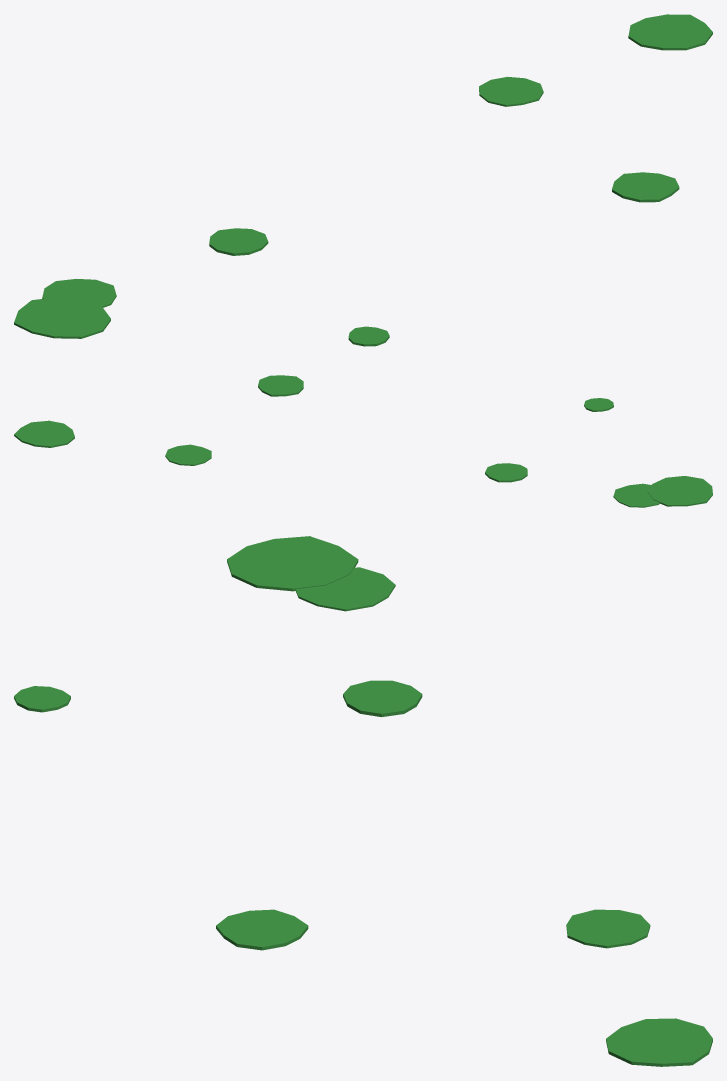
Rendered from IslandGrass_GrassDark.fbx.
3 views of the same model, one above another, from view 1: azimuth 30°, elevation 25°; view 2: azimuth 150°, elevation 25°; view 3: azimuth 270°, elevation 25° (orthographic). The views are drawn at different scales.
Visible parts, largest first — view 1: IslandGrass0.001; view 2: IslandGrass0.001; view 3: IslandGrass0.001.
Boxes of the visible parts, <box> form: IslandGrass0.001: <box>14,14,712,346</box>; IslandGrass0.001: <box>14,375,712,507</box>; IslandGrass0.001: <box>14,536,712,1066</box>.
Bounding box in the file's own units: 44450 × 130 × 24864.
